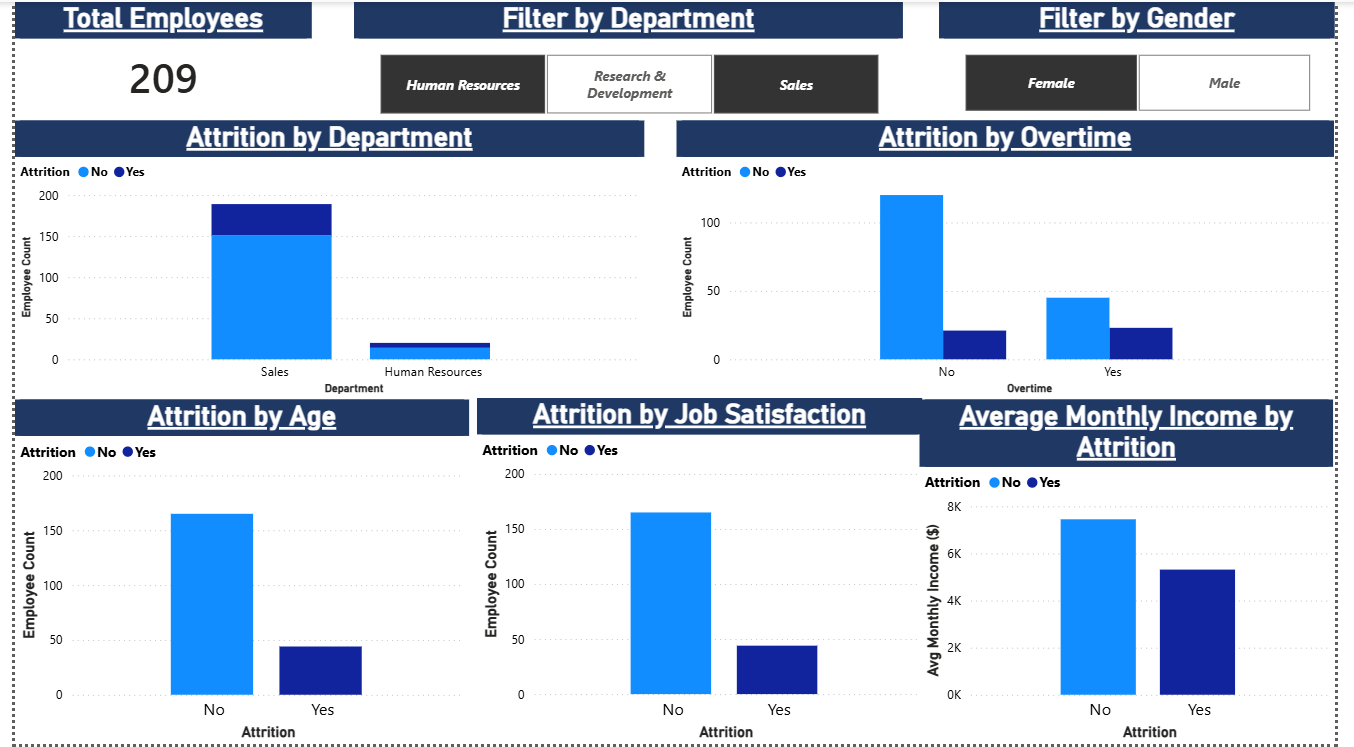

This screenshot's page, from the dashboard's own definition file:
{"tool":"powerbi","page":{"name":"Page 1","canvas":[1280,720],"ordinal":0},"visuals":[{"type":"cardVisual","title":"Total Employees","fields":{"Data":["CountNonNull(public attrition.employeenumber)"]},"box":[0,0,288,112],"z":0},{"type":"clusteredColumnChart","title":"Attrition by Overtime","fields":{"Category":["public attrition.overtime"],"Series":["public attrition.attrition"],"Y":["CountNonNull(public attrition.employeenumber)"]},"box":[641.2,115,638,270.4],"z":1000},{"type":"columnChart","title":"Attrition by Age","fields":{"Y":["CountNonNull(public attrition.age)"],"Category":["public attrition.attrition"],"Series":["public attrition.attrition"]},"box":[0,385.4,440.4,335.2],"z":2000},{"type":"columnChart","title":"Attrition by Job Satisfaction","fields":{"Y":["CountNonNull(public attrition.jobsatisfaction)"],"Category":["public attrition.attrition"],"Series":["public attrition.attrition"]},"box":[448,384,432,336],"z":3000},{"type":"columnChart","title":"Average Monthly Income by Attrition","fields":{"Y":["Avg(public attrition.monthlyincome)"],"Category":["public attrition.attrition"],"Series":["public attrition.attrition"]},"box":[877.6,385.4,401.6,335.2],"z":4000},{"type":"columnChart","title":"Attrition by Department","fields":{"Category":["public attrition.department"],"Series":["public attrition.attrition"],"Y":["CountNonNull(public attrition.employeenumber)"]},"box":[0,115,610.4,270.4],"z":5000},{"type":"slicer","title":"Filter by Gender","fields":{"Values":["public attrition.gender"]},"box":[896,0,384,112],"z":6000},{"type":"slicer","title":"Filter by Department","fields":{"Values":["public attrition.department"]},"box":[328.8,0,532.9,115.3],"z":7000}]}

Visuals, with their boxes in screenshot pixels (x1, y1, x2, y2), scaled from the page's 1280x720 canvas onto the 1354x747 screenshot:
"Total Employees" cardVisual: x1=0, y1=0, x2=305, y2=116
"Attrition by Overtime" clusteredColumnChart: x1=678, y1=119, x2=1353, y2=400
"Attrition by Age" columnChart: x1=0, y1=400, x2=466, y2=746
"Attrition by Job Satisfaction" columnChart: x1=474, y1=398, x2=931, y2=746
"Average Monthly Income by Attrition" columnChart: x1=928, y1=400, x2=1353, y2=746
"Attrition by Department" columnChart: x1=0, y1=119, x2=646, y2=400
"Filter by Gender" slicer: x1=948, y1=0, x2=1353, y2=116
"Filter by Department" slicer: x1=348, y1=0, x2=912, y2=120
